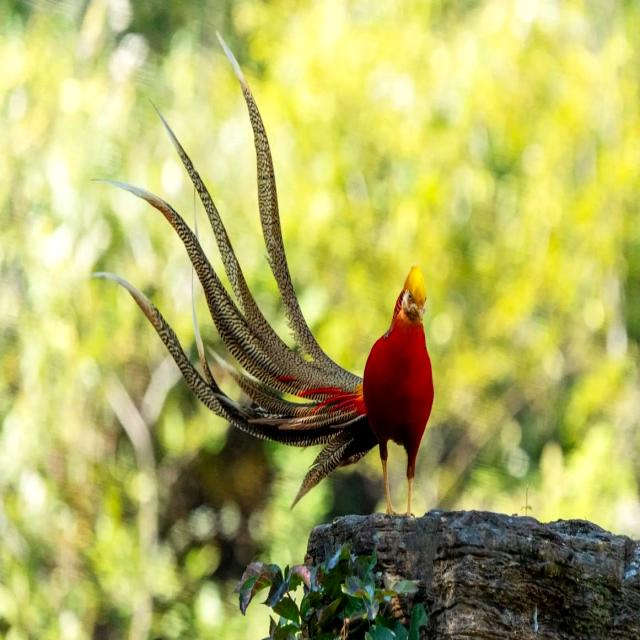Chrysolophus pictus feather: (88, 32, 379, 512)
